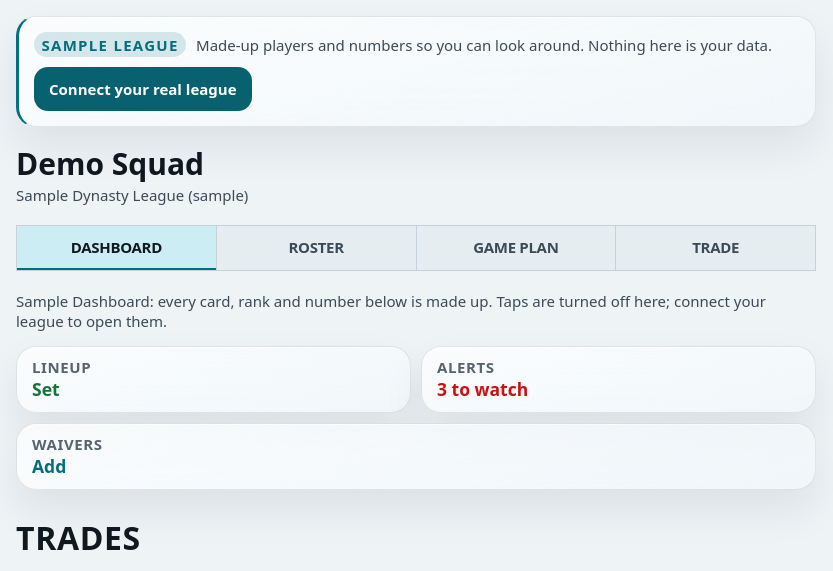
it: SampleLeagueContent › browses roster, game plan and trade with the banner persistent and no network
Click the tab "Roster" at (316, 248), box [216,226,416,270]
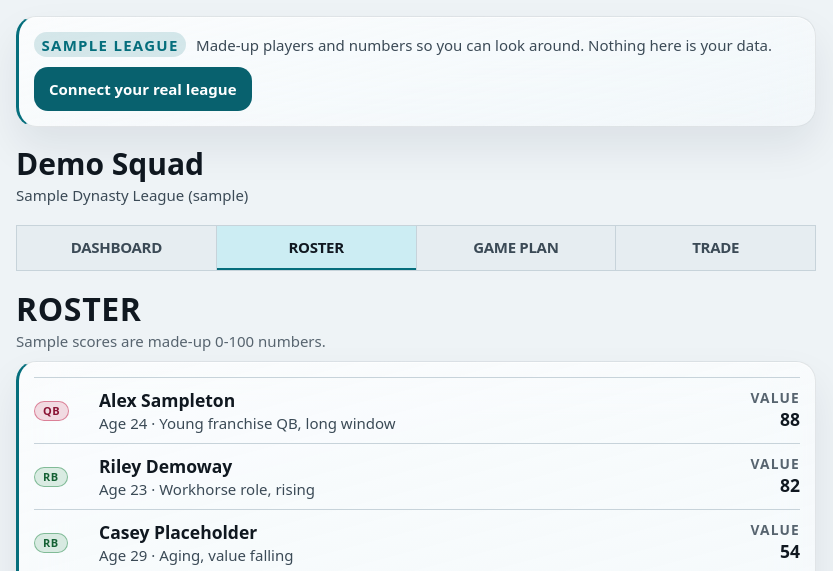
Expected: the text "Alex Sampleton" is shown, [99,388,235,412]
Click the tab "Game Plan" at (515, 248), box [416,226,615,270]
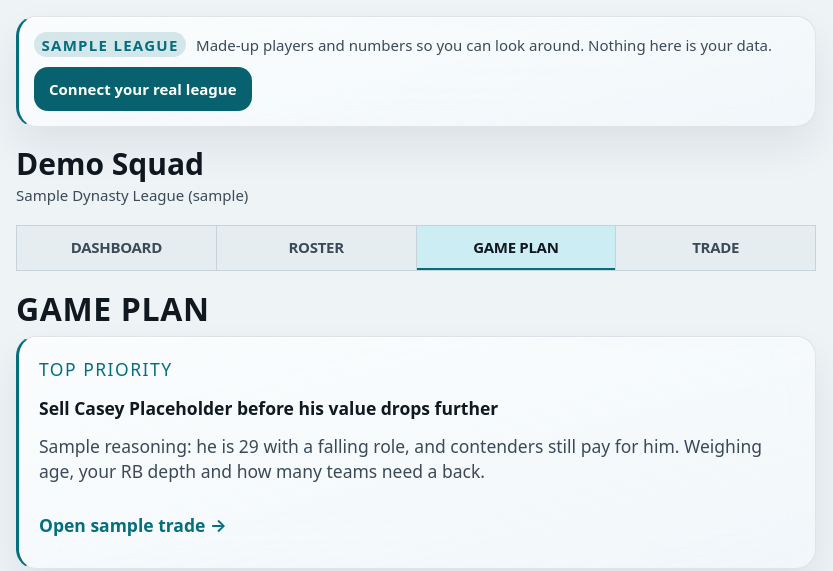
Expected: the element with test id "sample-banner" is shown, [16,16,816,127]
Expected: the heading "Sell Casey Placeholder before his value drops further" is shown, [39,396,498,420]
Click the button "Open sample trade →" at (133, 526), box [39,504,227,548]
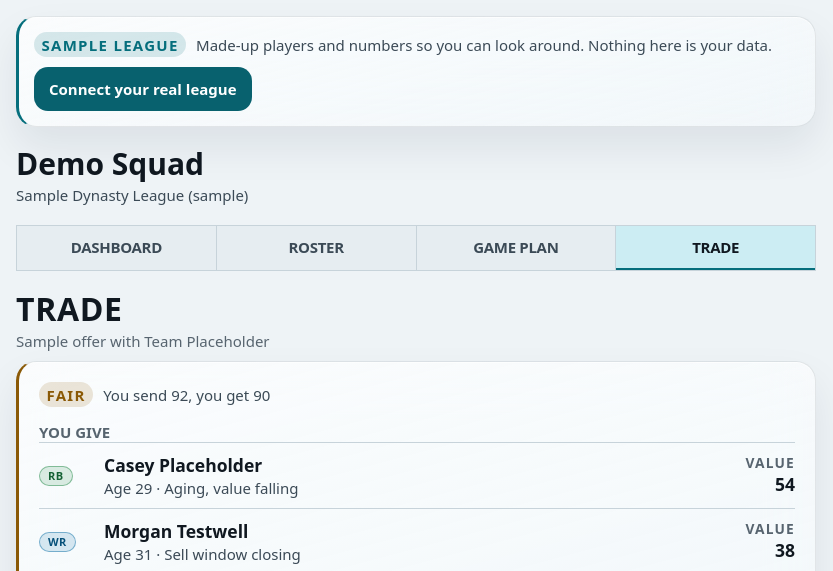
Expected: the element with test id "sample-banner" is shown, [16,16,816,127]
Expected: the text with test id "sample-verdict" reads "Fair", [46,385,86,405]
